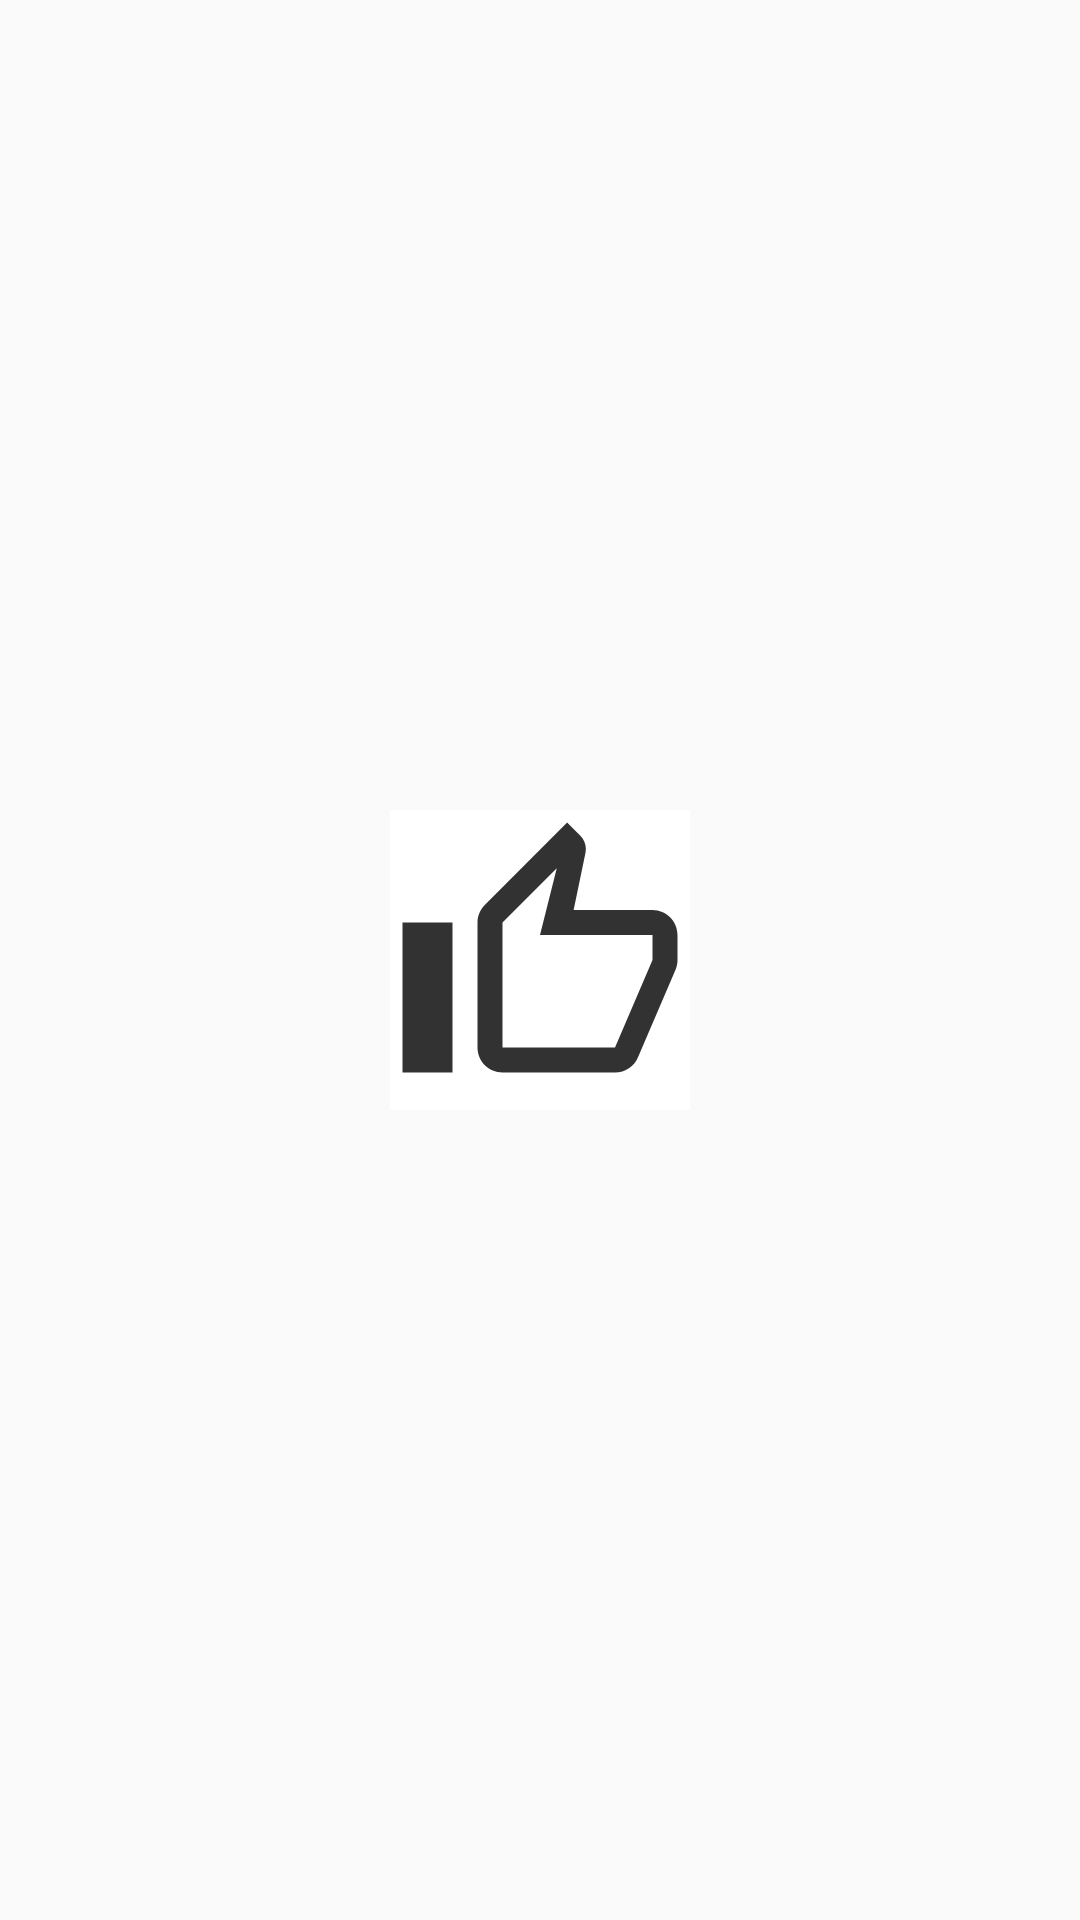

Locate icon controls on the screen. Image size 1080 x 1920, boxes as (x1, y1, x2, y2).
thumb up: (402, 822, 678, 1073)
